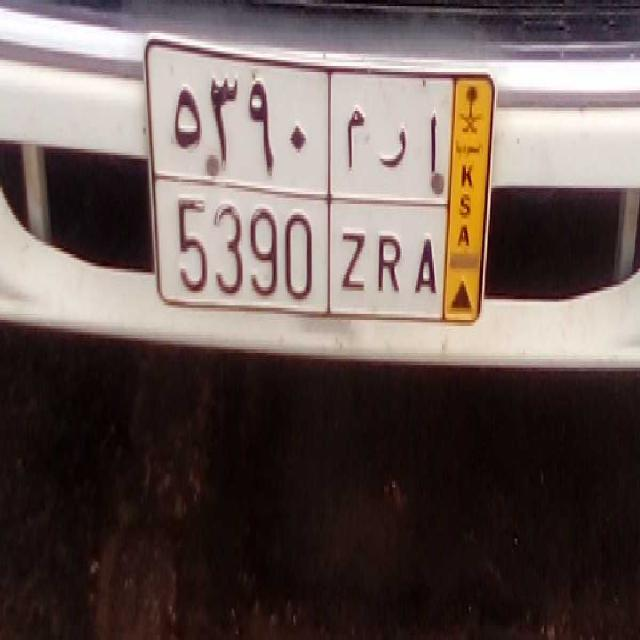license_plate: (151, 173, 444, 324)
